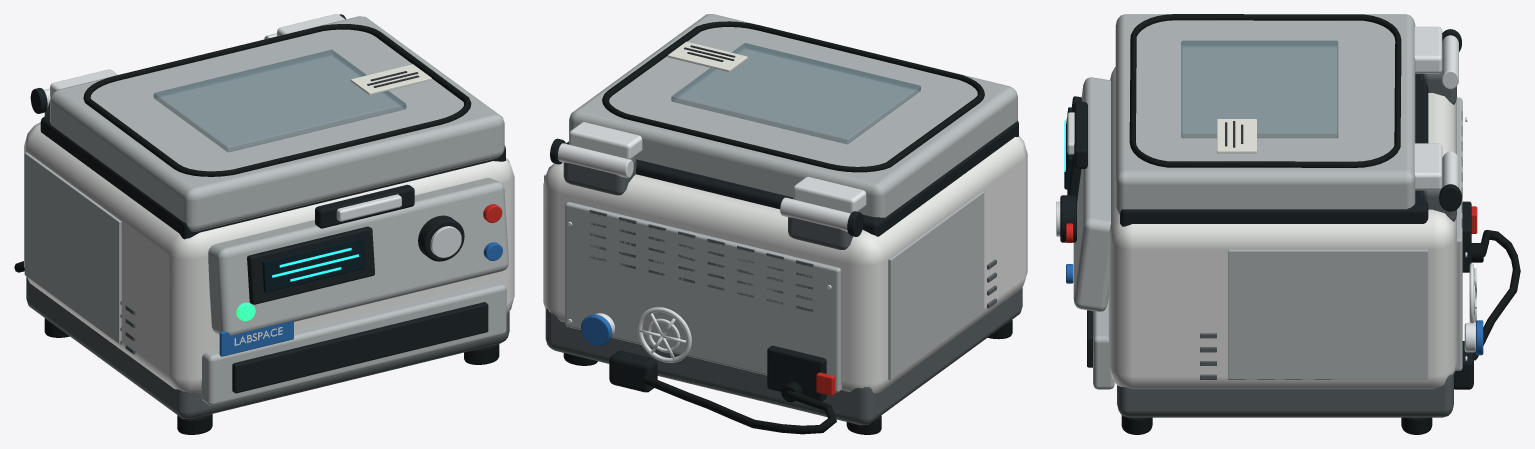
Rendered from benchtop-centrifuge.glb.
3 renders of one model, left to right at view 1: azimuth 30°, elevation 25°; view 2: azimuth 150°, elevation 25°; view 3: azimuth 270°, elevation 25°, orthographic. The views are drawn at different scales.
Parts seen in each view (by area): view 1: Runtime_Cool_gray_molded_trim, Runtime_Warm_white_molded_housing, Runtime_Black_engineering_polymer, Runtime_Smoked_inspection_glass, Runtime_Graphite_mechanism_finish, Runtime_Black_EPDM_rubber, Runtime_Controller_glass, Runtime_Polished_optical_hardware, Runtime_Laboratory_blue_accent, Runtime_Equipment_label_stock, Runtime_Satin_anodized_aluminum, Runtime_Cyan_display_pixels; view 2: Runtime_Cool_gray_molded_trim, Runtime_Warm_white_molded_housing, Runtime_Graphite_mechanism_finish, Runtime_Smoked_inspection_glass, Runtime_Black_engineering_polymer, Runtime_Black_EPDM_rubber, Runtime_Polished_optical_hardware, Runtime_Equipment_label_stock, Runtime_Laboratory_blue_accent; view 3: Runtime_Cool_gray_molded_trim, Runtime_Warm_white_molded_housing, Runtime_Smoked_inspection_glass, Runtime_Graphite_mechanism_finish, Runtime_Black_engineering_polymer, Runtime_Black_EPDM_rubber, Runtime_Polished_optical_hardware, Runtime_Equipment_label_stock.
Part boxes in pixels (x1,y1,x2,y2): Runtime_Cool_gray_molded_trim: (24, 16, 508, 405); Runtime_Warm_white_molded_housing: (24, 122, 514, 392); Runtime_Black_engineering_polymer: (30, 14, 505, 393); Runtime_Smoked_inspection_glass: (153, 49, 406, 152); Runtime_Graphite_mechanism_finish: (26, 101, 509, 419); Runtime_Black_EPDM_rubber: (14, 24, 499, 434); Runtime_Controller_glass: (262, 237, 365, 292); Runtime_Polished_optical_hardware: (44, 14, 401, 221); Runtime_Laboratory_blue_accent: (219, 242, 502, 356); Runtime_Equipment_label_stock: (234, 64, 431, 345); Runtime_Satin_anodized_aluminum: (430, 226, 461, 257); Runtime_Cyan_display_pixels: (272, 248, 359, 281); Runtime_Cool_gray_molded_trim: (544, 14, 1017, 392); Runtime_Warm_white_molded_housing: (543, 135, 1027, 393); Runtime_Graphite_mechanism_finish: (545, 156, 1022, 425); Runtime_Smoked_inspection_glass: (671, 43, 920, 144); Runtime_Black_engineering_polymer: (550, 120, 1018, 401); Runtime_Black_EPDM_rubber: (563, 21, 1012, 434); Runtime_Polished_optical_hardware: (558, 122, 866, 362); Runtime_Equipment_label_stock: (667, 41, 747, 72); Runtime_Laboratory_blue_accent: (581, 314, 612, 346); Runtime_Cool_gray_molded_trim: (1073, 14, 1462, 389); Runtime_Warm_white_molded_housing: (1108, 67, 1456, 389); Runtime_Smoked_inspection_glass: (1181, 40, 1338, 138); Runtime_Graphite_mechanism_finish: (1117, 43, 1462, 417); Runtime_Black_engineering_polymer: (1060, 29, 1473, 389); Runtime_Black_EPDM_rubber: (1121, 14, 1520, 434); Runtime_Polished_optical_hardware: (1067, 26, 1476, 360); Runtime_Equipment_label_stock: (1217, 119, 1256, 153).
Bounding box in the file's own units: 0.6 × 0.42 × 0.65.
